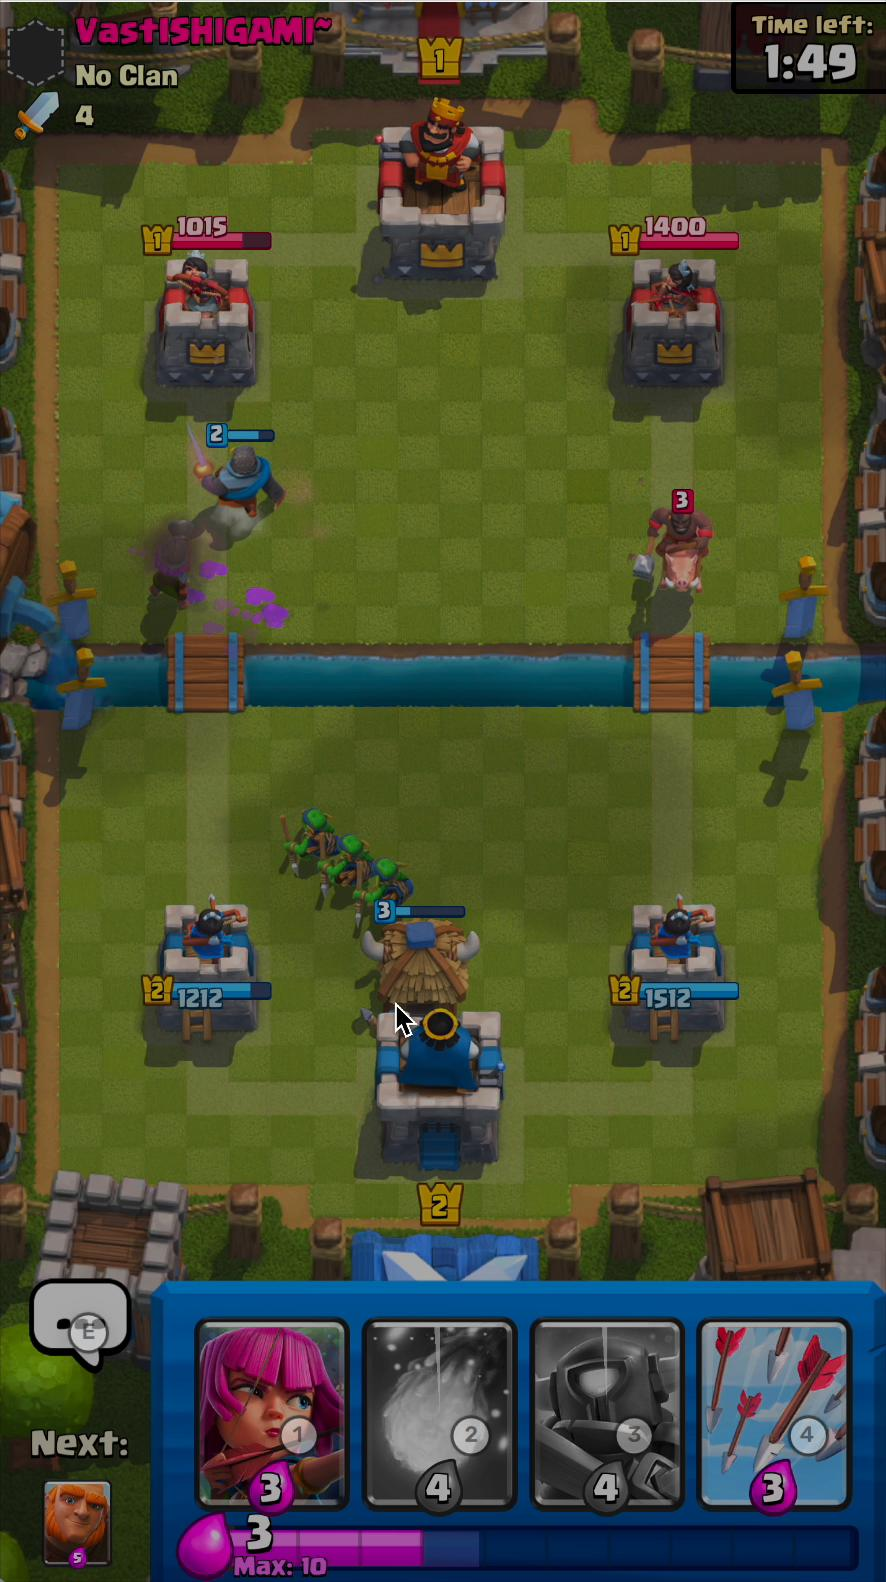chevalier: (176, 415, 298, 525)
gobelin_lances: (270, 802, 349, 876), (311, 832, 376, 904), (358, 855, 415, 926)
mousquetaire: (143, 531, 201, 603)
